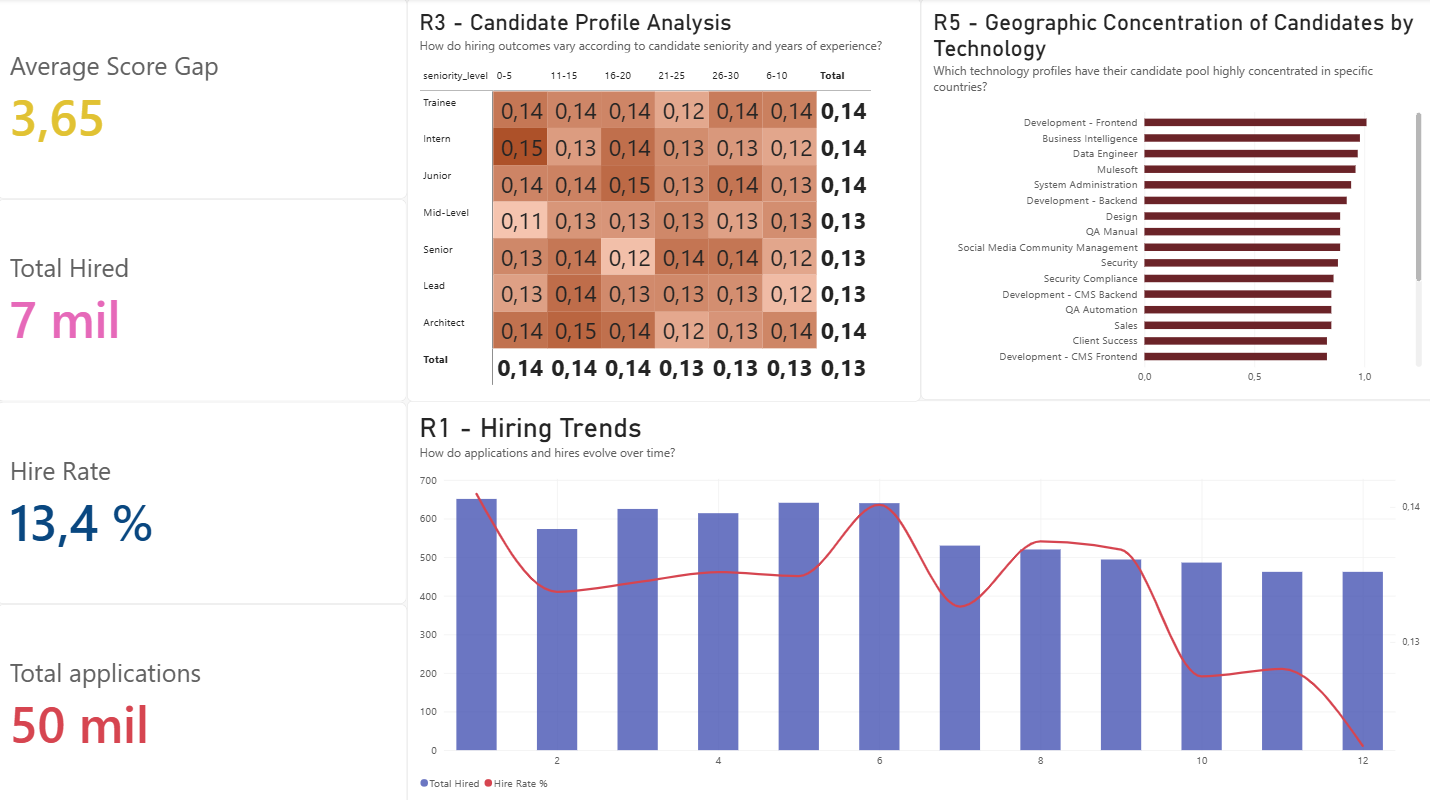

The dashboard page shown, as its layout file describes it:
{"tool":"powerbi","page":{"name":"Página 1","canvas":[1920,1080],"ordinal":0},"visuals":[{"type":"lineStackedColumnComboChart","title":"R1 - Hiring Trends","fields":{"Category":["recruitment_dw dim_date.year","recruitment_dw dim_date.month"],"Y":["recruitment_dw fact_application.Total Hired"],"Y2":["recruitment_dw fact_application.Hire Rate %"]},"box":[547.6,536.9,1373,542.2],"z":1000},{"type":"pivotTable","title":"R3 - Candidate Profile Analysis","fields":{"Columns":["recruitment_dw dim_experience_range.yoe_range"],"Rows":["recruitment_dw dim_seniority.seniority_level"],"Values":["recruitment_dw fact_application.Hire Rate %"]},"box":[547.6,0,686.5,539.6],"z":2000},{"type":"barChart","title":"R5 - Geographic Concentration of Candidates by Technology","fields":{"Category":["Consulta1.technology_name"],"Y":["Sum(Consulta1.top_country_concentration_pct)"]},"box":[1234.1,0,686.5,536.9],"z":4001},{"type":"cardVisual","fields":{"Data":["recruitment_dw fact_application.Hire Rate %"]},"box":[0,539,547.8,270.6],"z":4004},{"type":"cardVisual","fields":{"Data":["recruitment_dw fact_application.Total Hired"]},"box":[0,268.4,547.8,270.6],"z":4005},{"type":"cardVisual","fields":{"Data":["recruitment_dw fact_application.Avg Score Gap"]},"box":[0,0,548,268],"z":4006},{"type":"cardVisual","fields":{"Data":["Sum(Consulta1.total_applications)"]},"box":[0,810,548,270],"z":4007}]}

Visuals, with their boxes in screenshot pixels (x1, y1, x2, y2), scaled from the page's 1920x1080 canvas onto the 1430x800 screenshot:
"R1 - Hiring Trends" lineStackedColumnComboChart: [408, 398, 1429, 799]
"R3 - Candidate Profile Analysis" pivotTable: [408, 0, 919, 400]
"R5 - Geographic Concentration of Candidates by Technology" barChart: [919, 0, 1429, 398]
cardVisual - recruitment_dw fact_application.Hire Rate %: [0, 399, 408, 600]
cardVisual - recruitment_dw fact_application.Total Hired: [0, 199, 408, 399]
cardVisual - recruitment_dw fact_application.Avg Score Gap: [0, 0, 408, 199]
cardVisual - Sum(Consulta1.total_applications): [0, 600, 408, 799]
